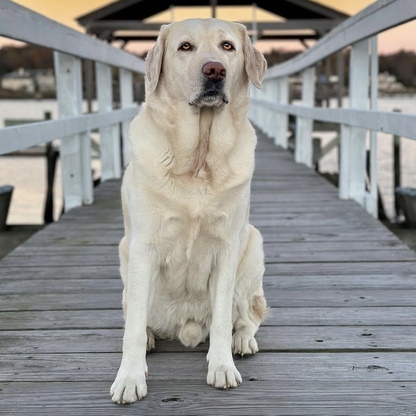labrado: (105, 17, 273, 410)
